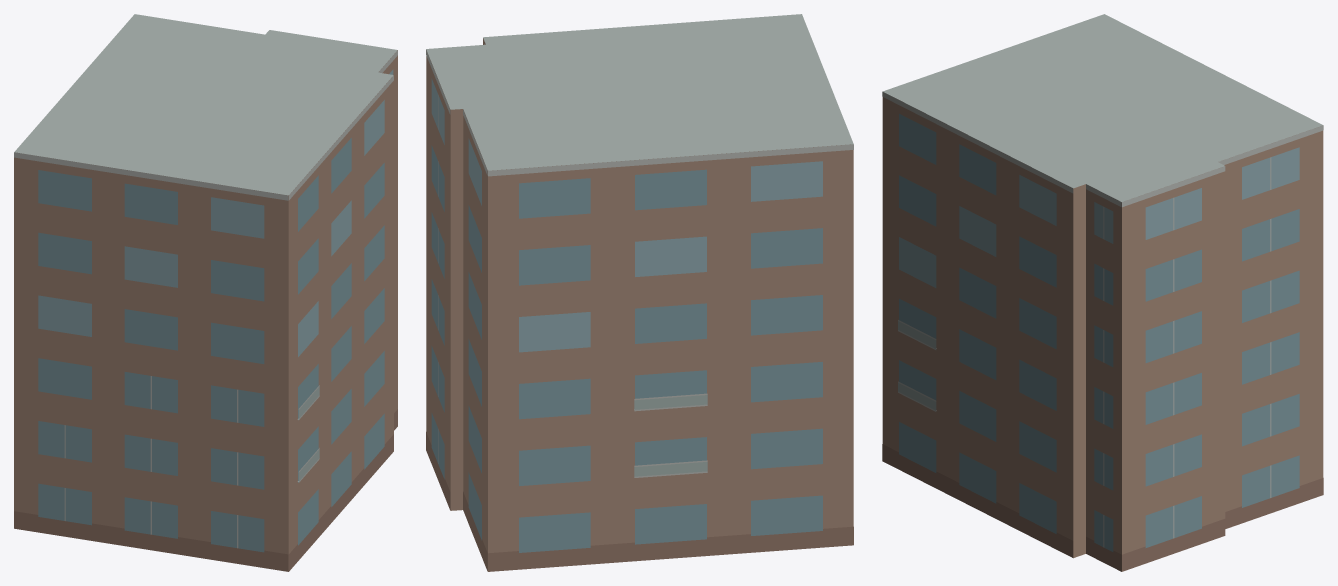
Rendered from survey-upis-32957524.glb.
3 renders of one model, left to right at view 1: azimuth 30°, elevation 25°; view 2: azimuth 150°, elevation 25°; view 3: azimuth 270°, elevation 25°, orthographic. The views are drawn at different scales.
Parts seen in each view (by area): view 1: survey-upis-32957524.tmp; view 2: survey-upis-32957524.tmp; view 3: survey-upis-32957524.tmp.
Part boxes in pixels (x1,y1,x2,y2): survey-upis-32957524.tmp: (14,14,397,571); survey-upis-32957524.tmp: (426,14,853,571); survey-upis-32957524.tmp: (882,14,1323,571).
Size of the model in its own units: 18.78 by 17.2 by 18.6.
